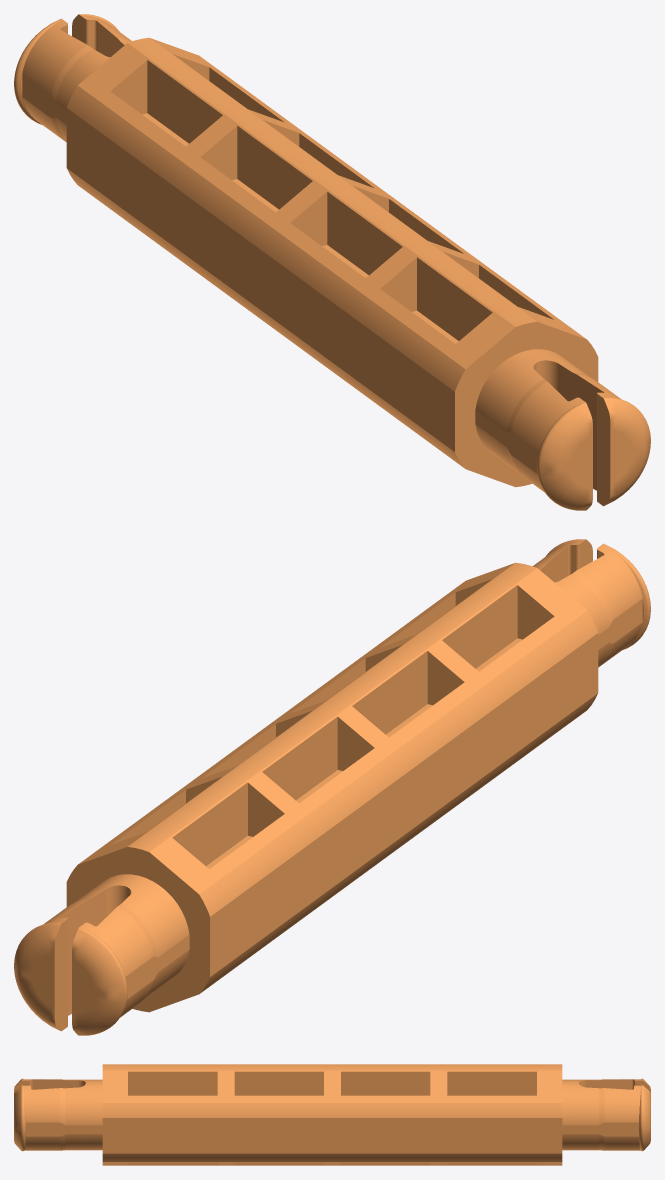
The picture shows the model from 3 angles, top to bottom: view 1: azimuth 30°, elevation 25°; view 2: azimuth 150°, elevation 25°; view 3: azimuth 270°, elevation 25°; orthographic projection. The views are drawn at different scales.
Visible parts, largest first — view 1: main_ff671f; view 2: main_ff671f; view 3: main_ff671f.
Boxes of the visible parts, x1,y1,x2,y2 form: main_ff671f: [14, 14, 650, 510]; main_ff671f: [14, 539, 650, 1035]; main_ff671f: [14, 1064, 650, 1165].
Bounding box in the file's own units: 5.8 × 6.24 × 37.68.
